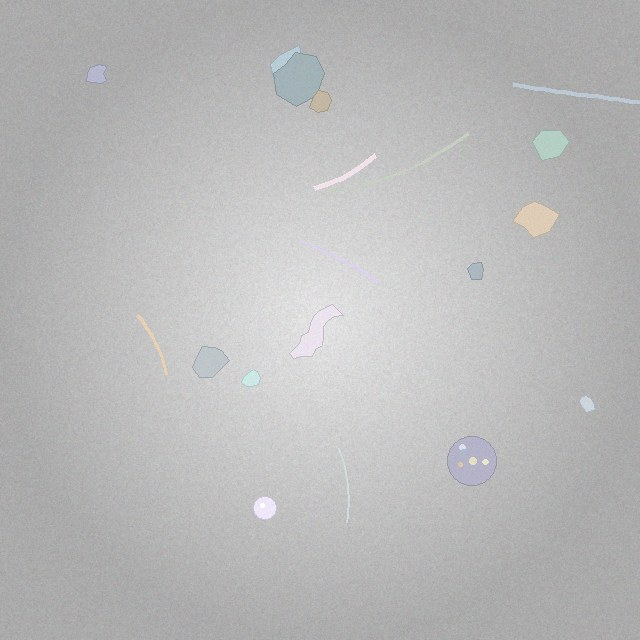fiber: (318, 129, 472, 196), (297, 238, 380, 284), (509, 80, 639, 108), (309, 150, 381, 194), (134, 312, 170, 378), (336, 446, 351, 526)
film: (289, 304, 344, 358)
foam: (447, 436, 497, 486)
fragment: (274, 53, 325, 107), (512, 201, 560, 238), (271, 46, 304, 84), (192, 347, 229, 378), (532, 130, 569, 160), (309, 91, 331, 113), (87, 65, 107, 84), (241, 369, 260, 387), (468, 263, 484, 280), (579, 395, 595, 412)
pellet: (253, 496, 277, 519)
